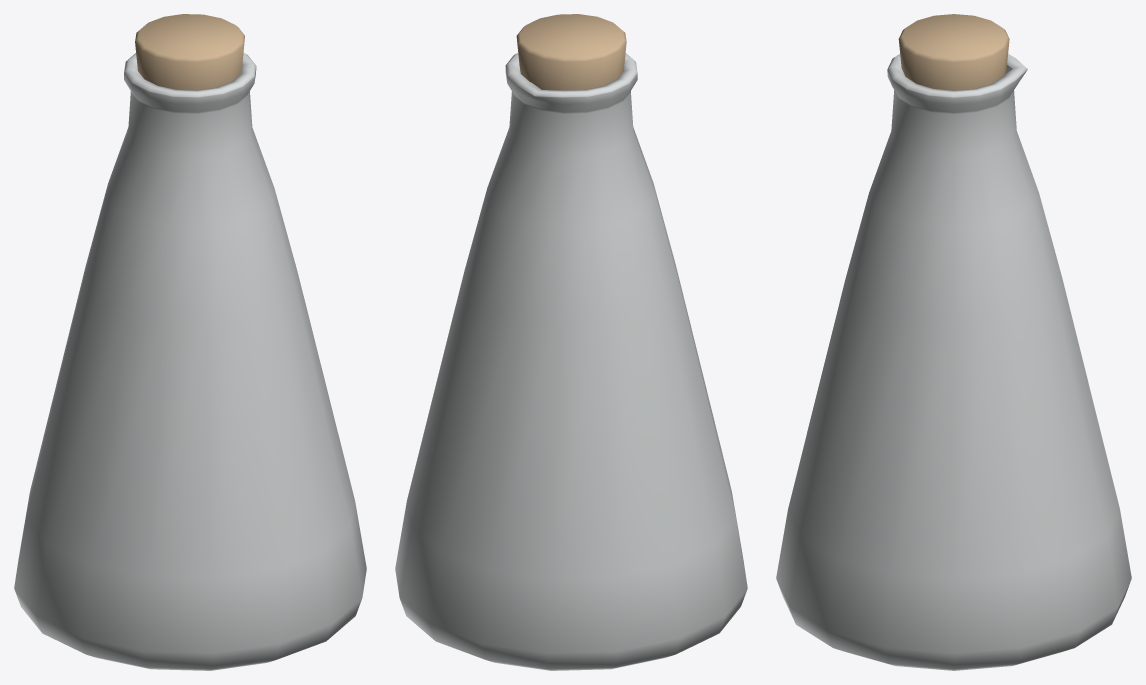
File: bottle_erlenmeyer_lod2.glb
The picture shows the model from 3 angles, left to right: view 1: azimuth 30°, elevation 25°; view 2: azimuth 150°, elevation 25°; view 3: azimuth 270°, elevation 25°; orthographic projection.
Visible parts, largest first — view 1: Glass, Cap; view 2: Glass, Cap; view 3: Glass, Cap.
Part boxes in pixels (x1,y1,x2,y2): Glass: [14, 52, 366, 670]; Cap: [135, 14, 244, 90]; Glass: [395, 53, 747, 670]; Cap: [516, 14, 626, 90]; Glass: [776, 54, 1131, 670]; Cap: [898, 14, 1009, 90].
Size of the model in its own units: 0.1064 by 0.1884 by 0.1066.
